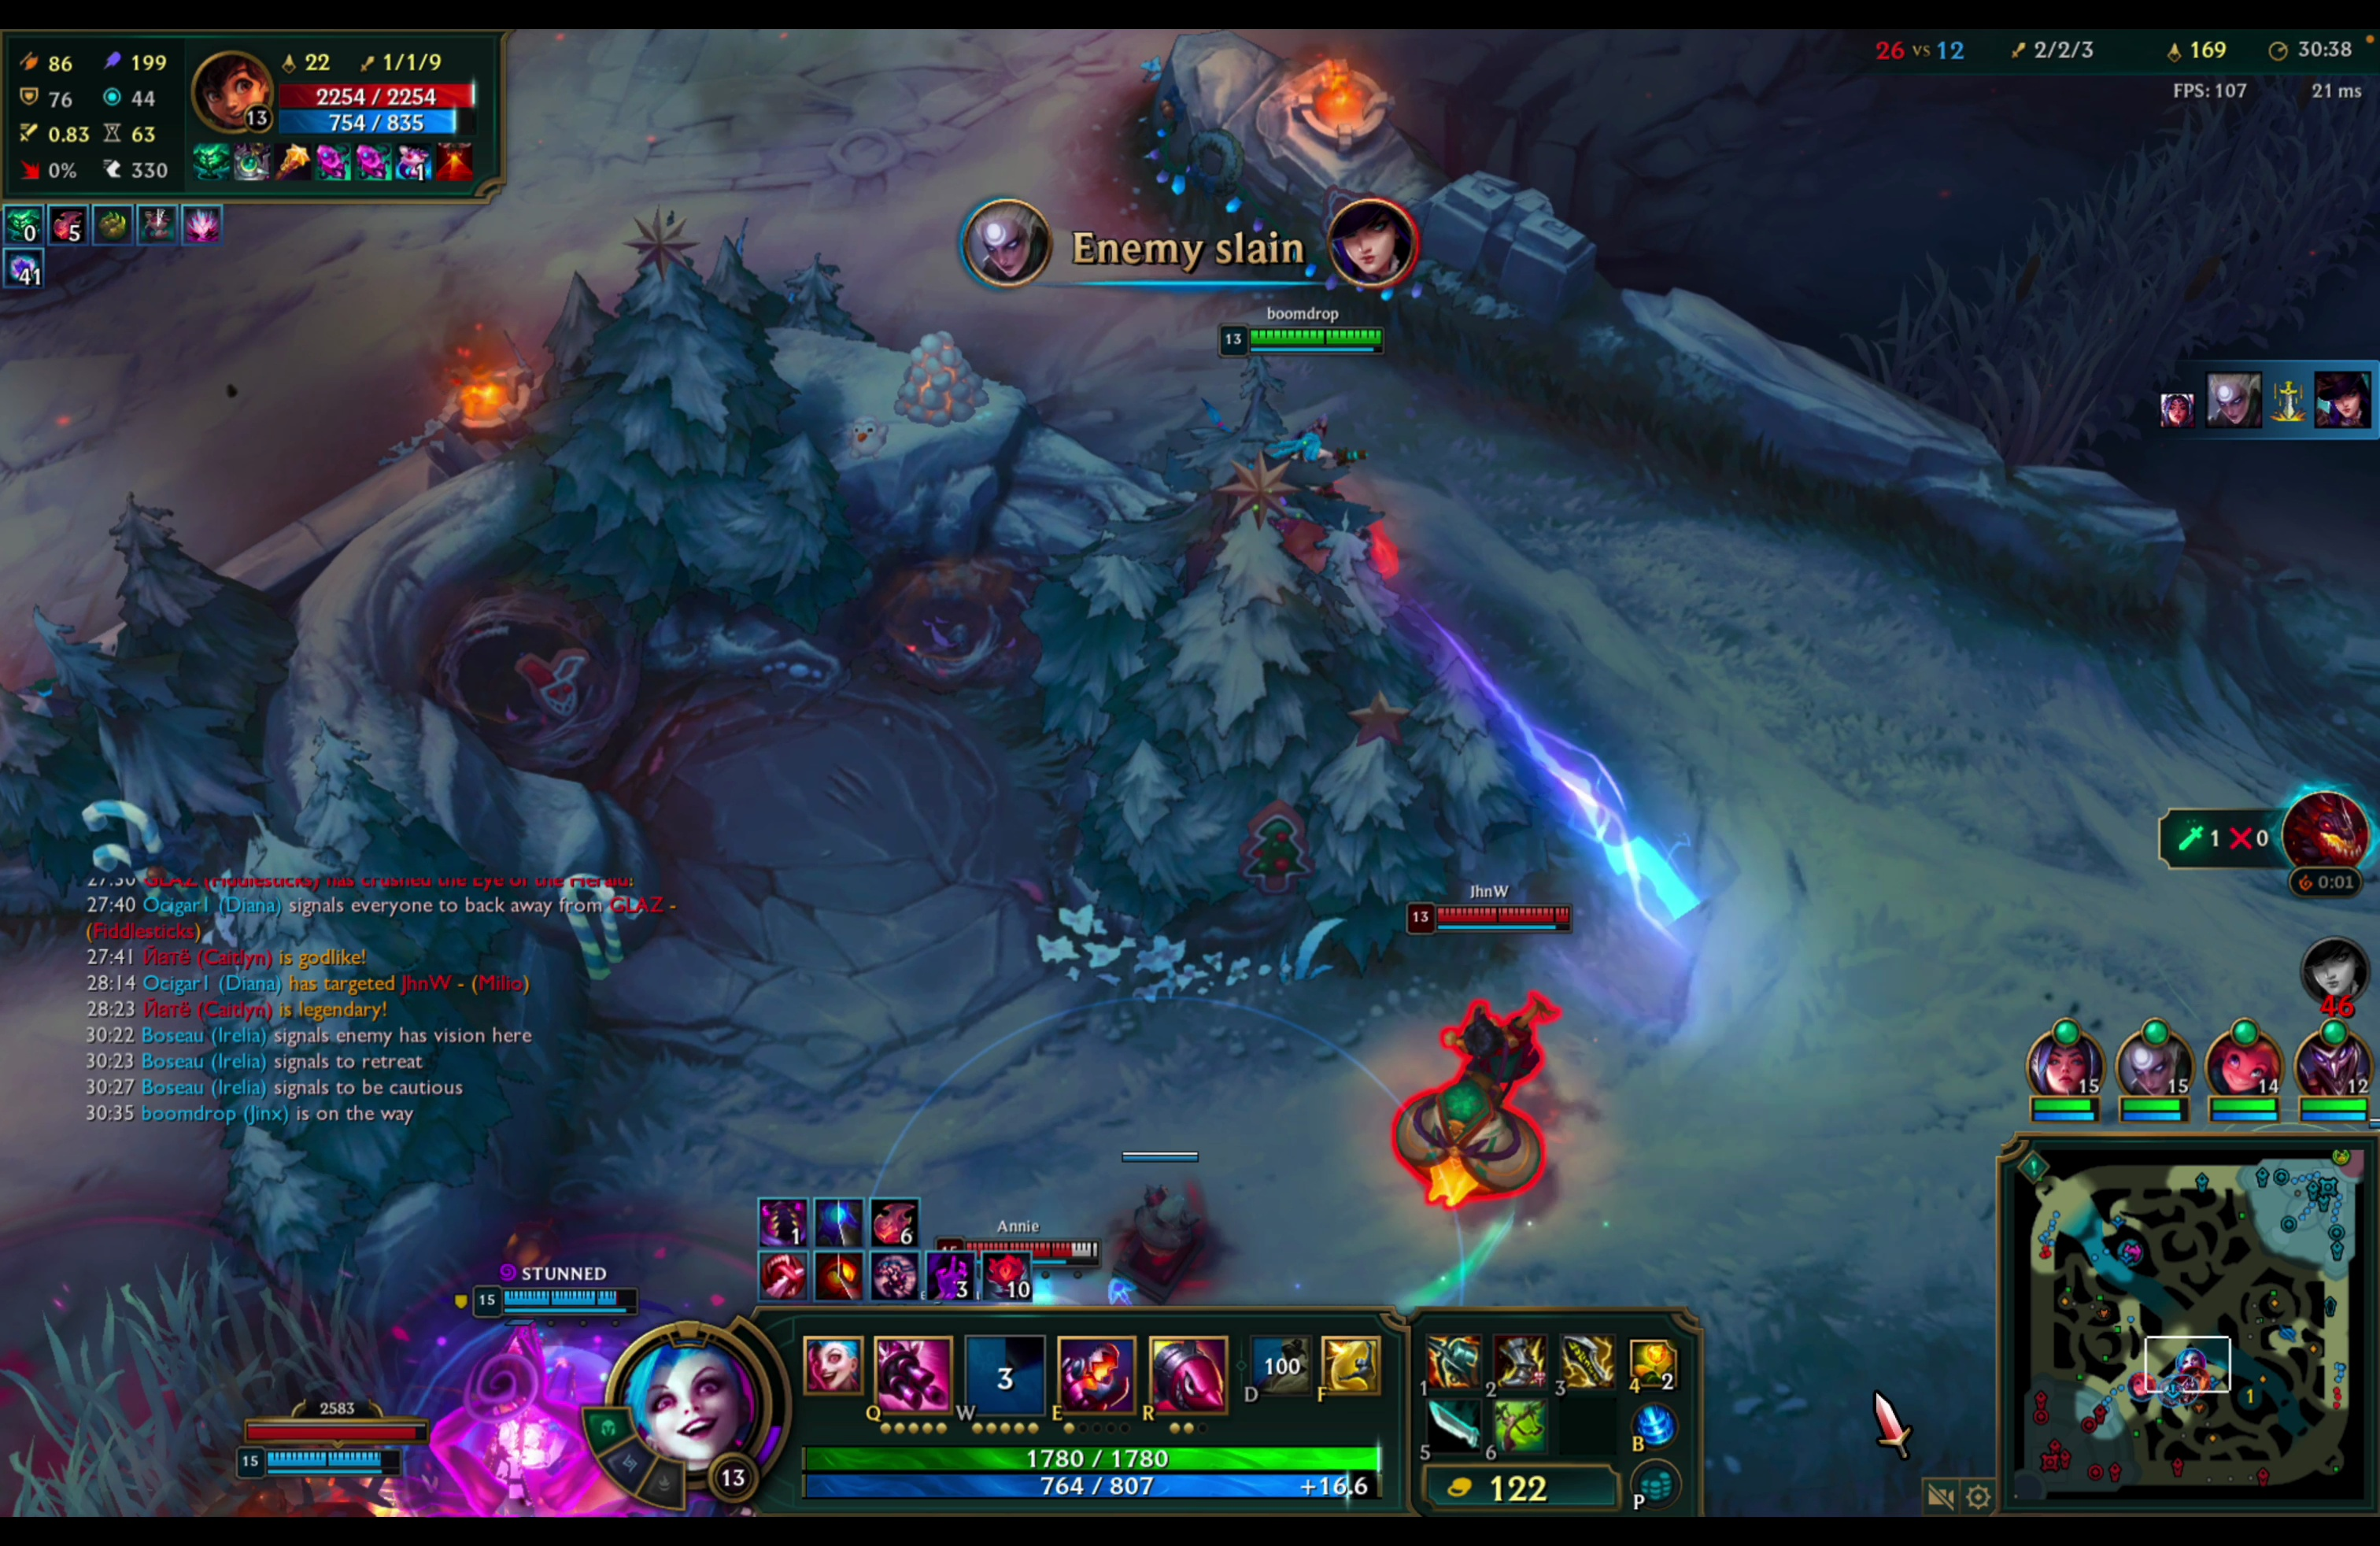JINX_W_PROJECTILE: (1202, 305, 1716, 942)
